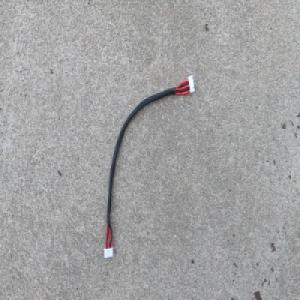Wire: (102, 72, 197, 262)
